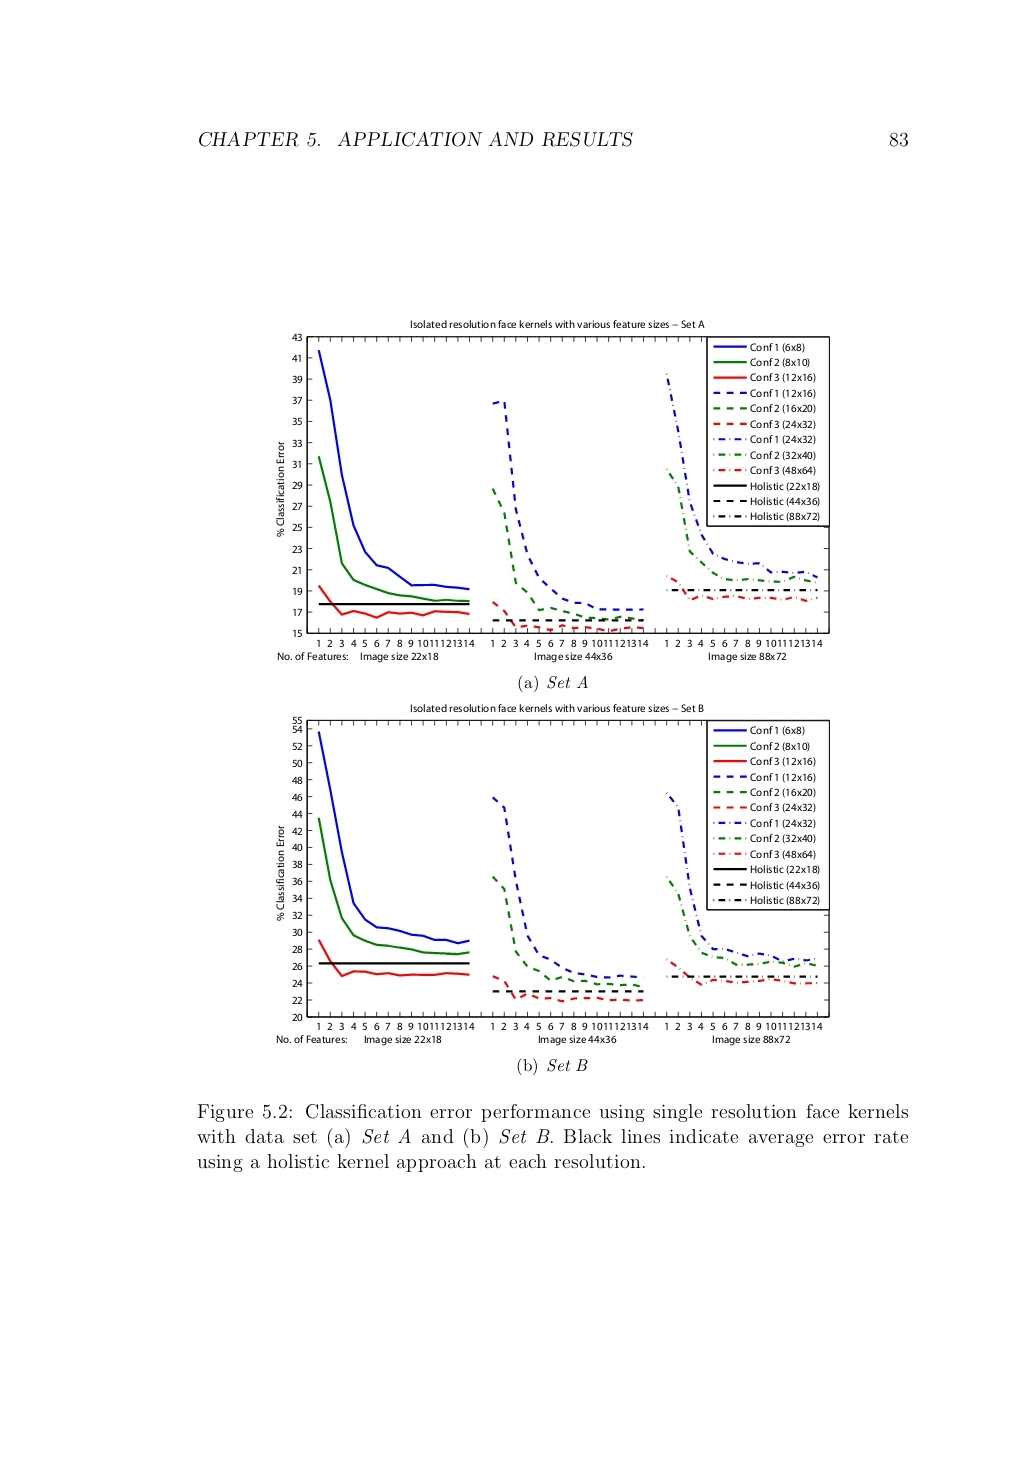figure: (276, 711, 829, 1045), (276, 334, 829, 661)
